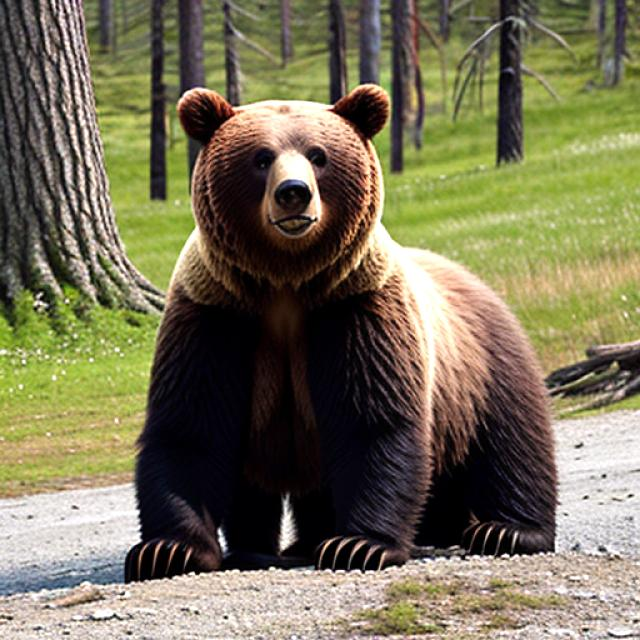bear: (140, 81, 560, 571)
